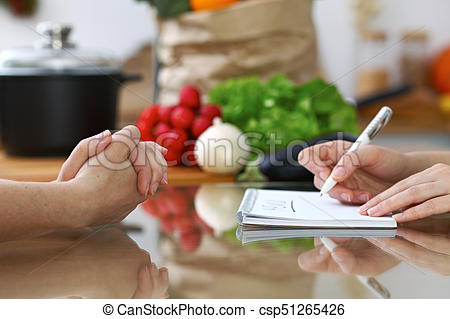finger: (360, 169, 433, 214), (368, 182, 446, 216), (392, 196, 448, 226), (295, 147, 344, 176), (313, 175, 353, 199), (131, 151, 150, 199), (149, 151, 163, 195)
